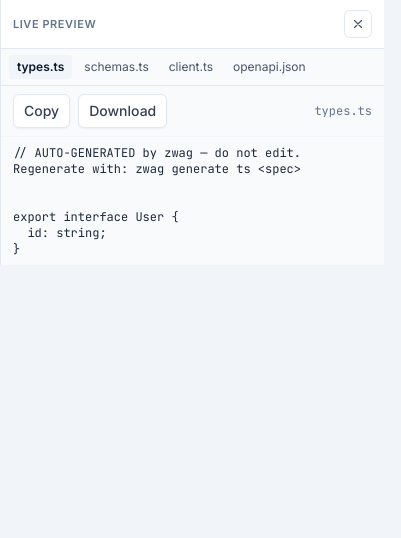
Test: switching to openapi.json shows valid JSON
Click the tab "openapi.json" at coordinates (269, 67), box [225,55,314,79]
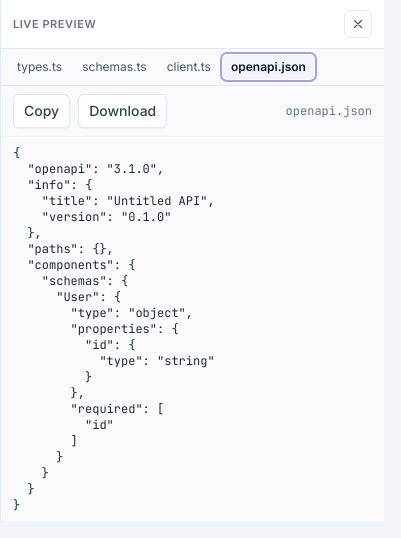
Check: the text "\"User\"" is shown, box [13,145,215,513]
